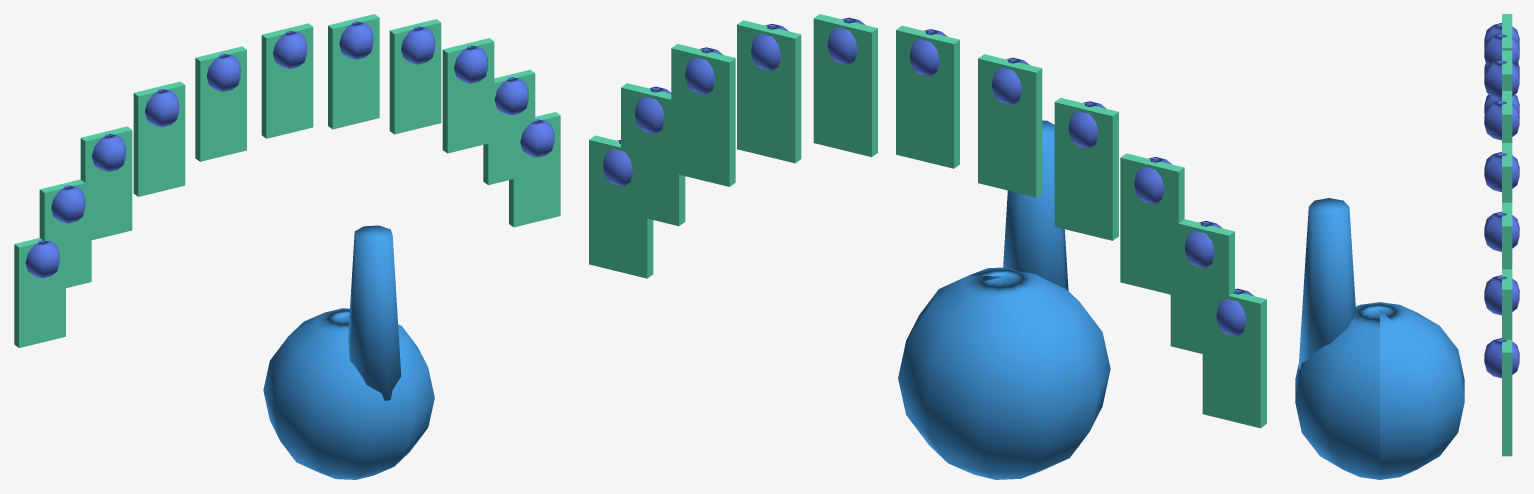
File: 026efabd-fdd0-456a-ace7-d80d4fdf033b.glb
3 renders of one model, left to right at view 1: azimuth 30°, elevation 25°; view 2: azimuth 150°, elevation 25°; view 3: azimuth 270°, elevation 25°, orthographic. The views are drawn at different scales.
Parts seen in each view (by area): view 1: Generated3DMesh; view 2: Generated3DMesh; view 3: Generated3DMesh.
Part boxes in pixels (x1,y1,x2,y2): Generated3DMesh: (14, 14, 560, 479); Generated3DMesh: (589, 14, 1266, 479); Generated3DMesh: (1295, 14, 1519, 479).
Size of the model in its own units: 2.54 by 1.78 by 0.8822.
